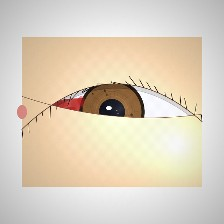hemorrhage_spot: (33, 69, 130, 147)
